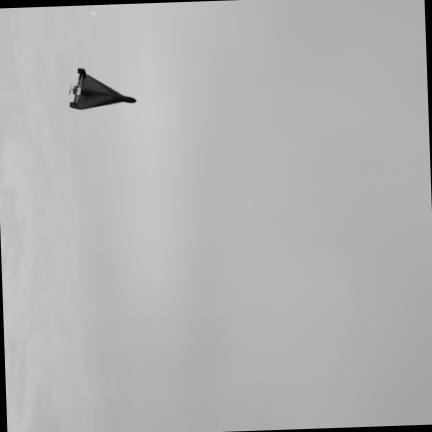Shahed: (69, 68, 136, 108)
